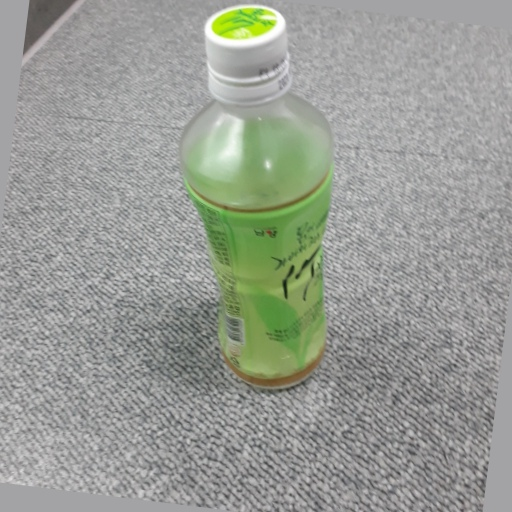Plastic_0: (179, 4, 337, 390)
